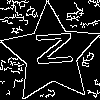N: (26, 29, 73, 68)
